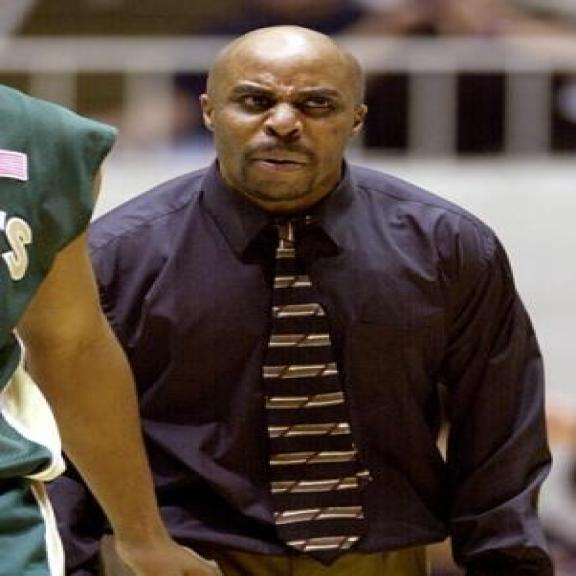face: (196, 58, 368, 202)
